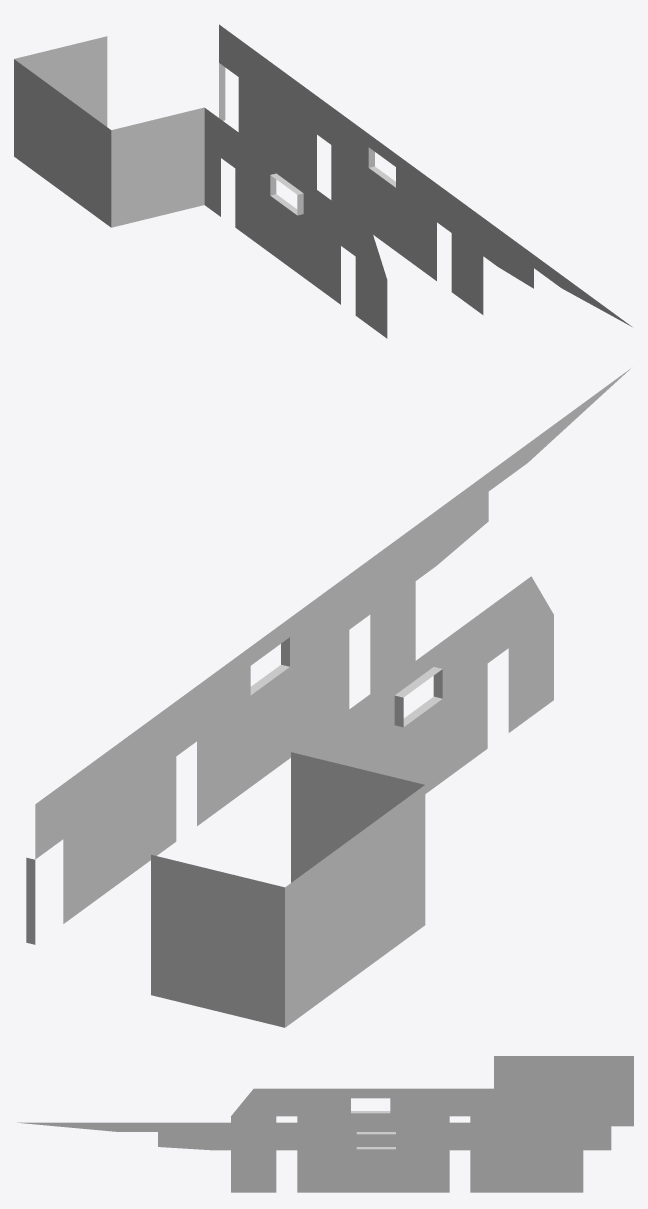
Rendered from LouDao-61.FBX.
The picture shows the model from 3 angles, top to bottom: view 1: azimuth 30°, elevation 25°; view 2: azimuth 150°, elevation 25°; view 3: azimuth 270°, elevation 25°; orthographic projection. The views are drawn at different scales.
Visible parts, largest first — view 1: LouDao-61; view 2: LouDao-61; view 3: LouDao-61.
Boxes of the visible parts, box(x1,y1,x2,y2) form: LouDao-61: box(14, 24, 631, 338); LouDao-61: box(26, 368, 630, 1027); LouDao-61: box(17, 1056, 633, 1192).
Size of the model in its own units: 6.92 by 3.3 by 26.4.
Materials: 1 (1 with a texture image).
